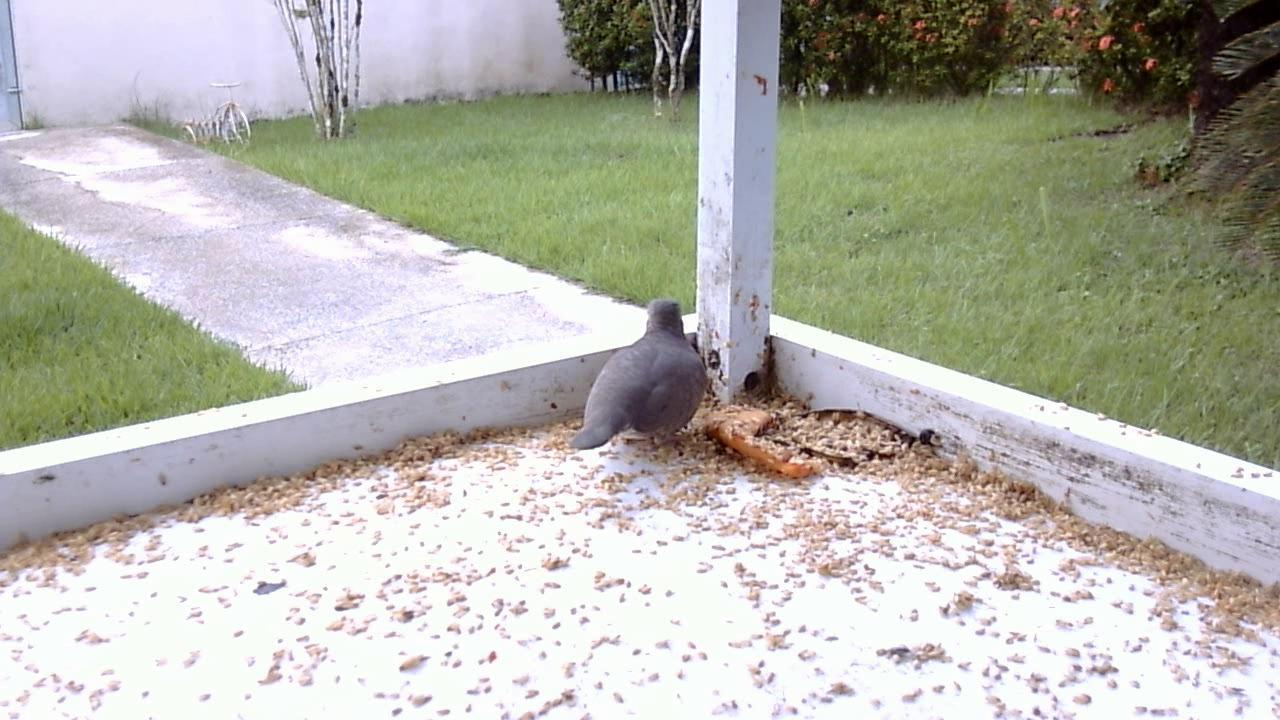rolinha: (559, 297, 710, 456)
